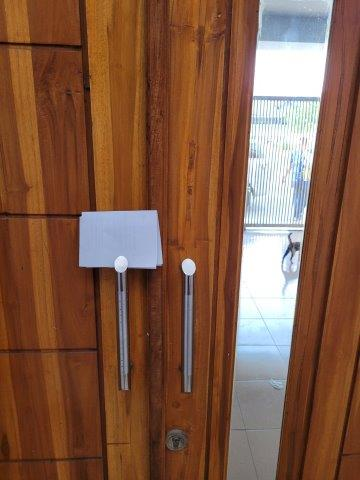kertas: (73, 208, 166, 272)
